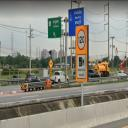speed_limit_120: (76, 28, 86, 52)
